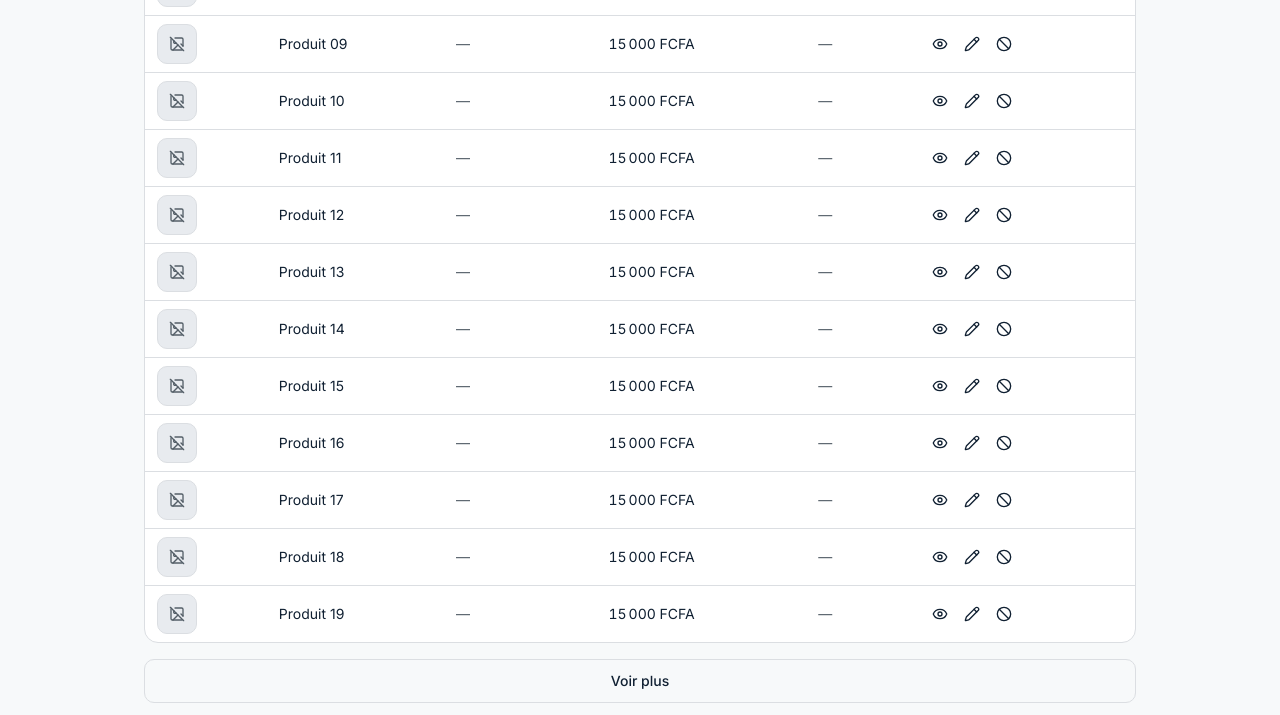
ProductsList — pagination › n'affiche que les 20 premiers produits puis révèle le reste au clic sur Voir plus
The width and height of the screenshot is (1280, 715).
(page scrolled)
What coordinates should you click on to do the following:
click the button "Voir plus"
I would click on:
 (640, 681)
Its box is x1=144 y1=659 x2=1136 y2=703.
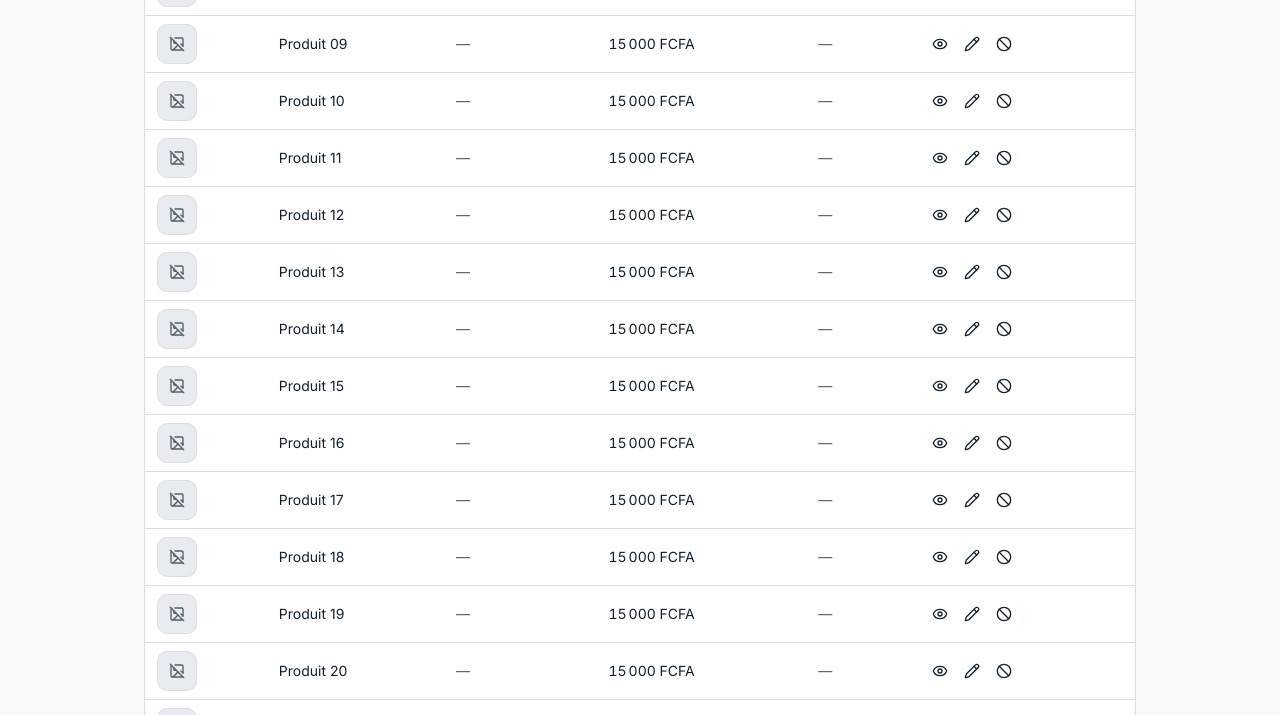
Expected: the button "Voir plus" is gone
